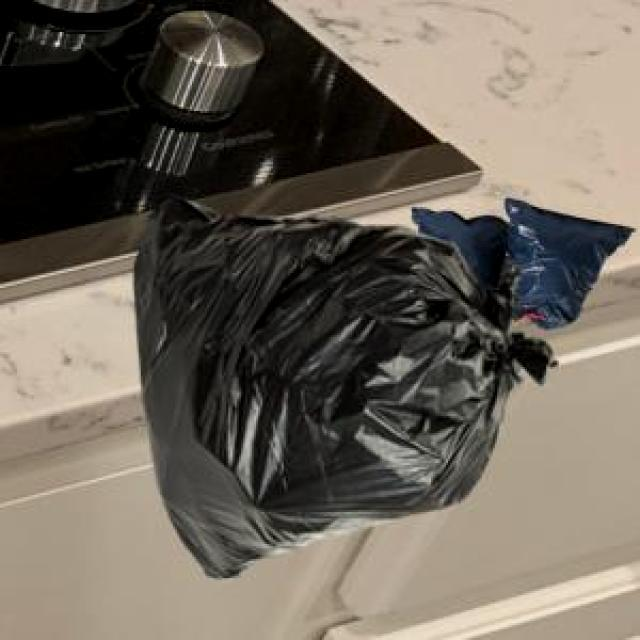Trashbag: (126, 196, 508, 584), (497, 194, 637, 334)
